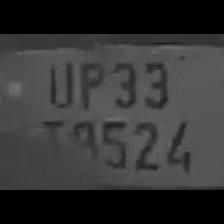2: (127, 113, 158, 173)
3: (105, 53, 137, 109), (138, 53, 170, 109)
4: (161, 113, 193, 173)
5: (97, 114, 129, 170)
P: (73, 54, 107, 110)
U: (38, 54, 76, 110)
